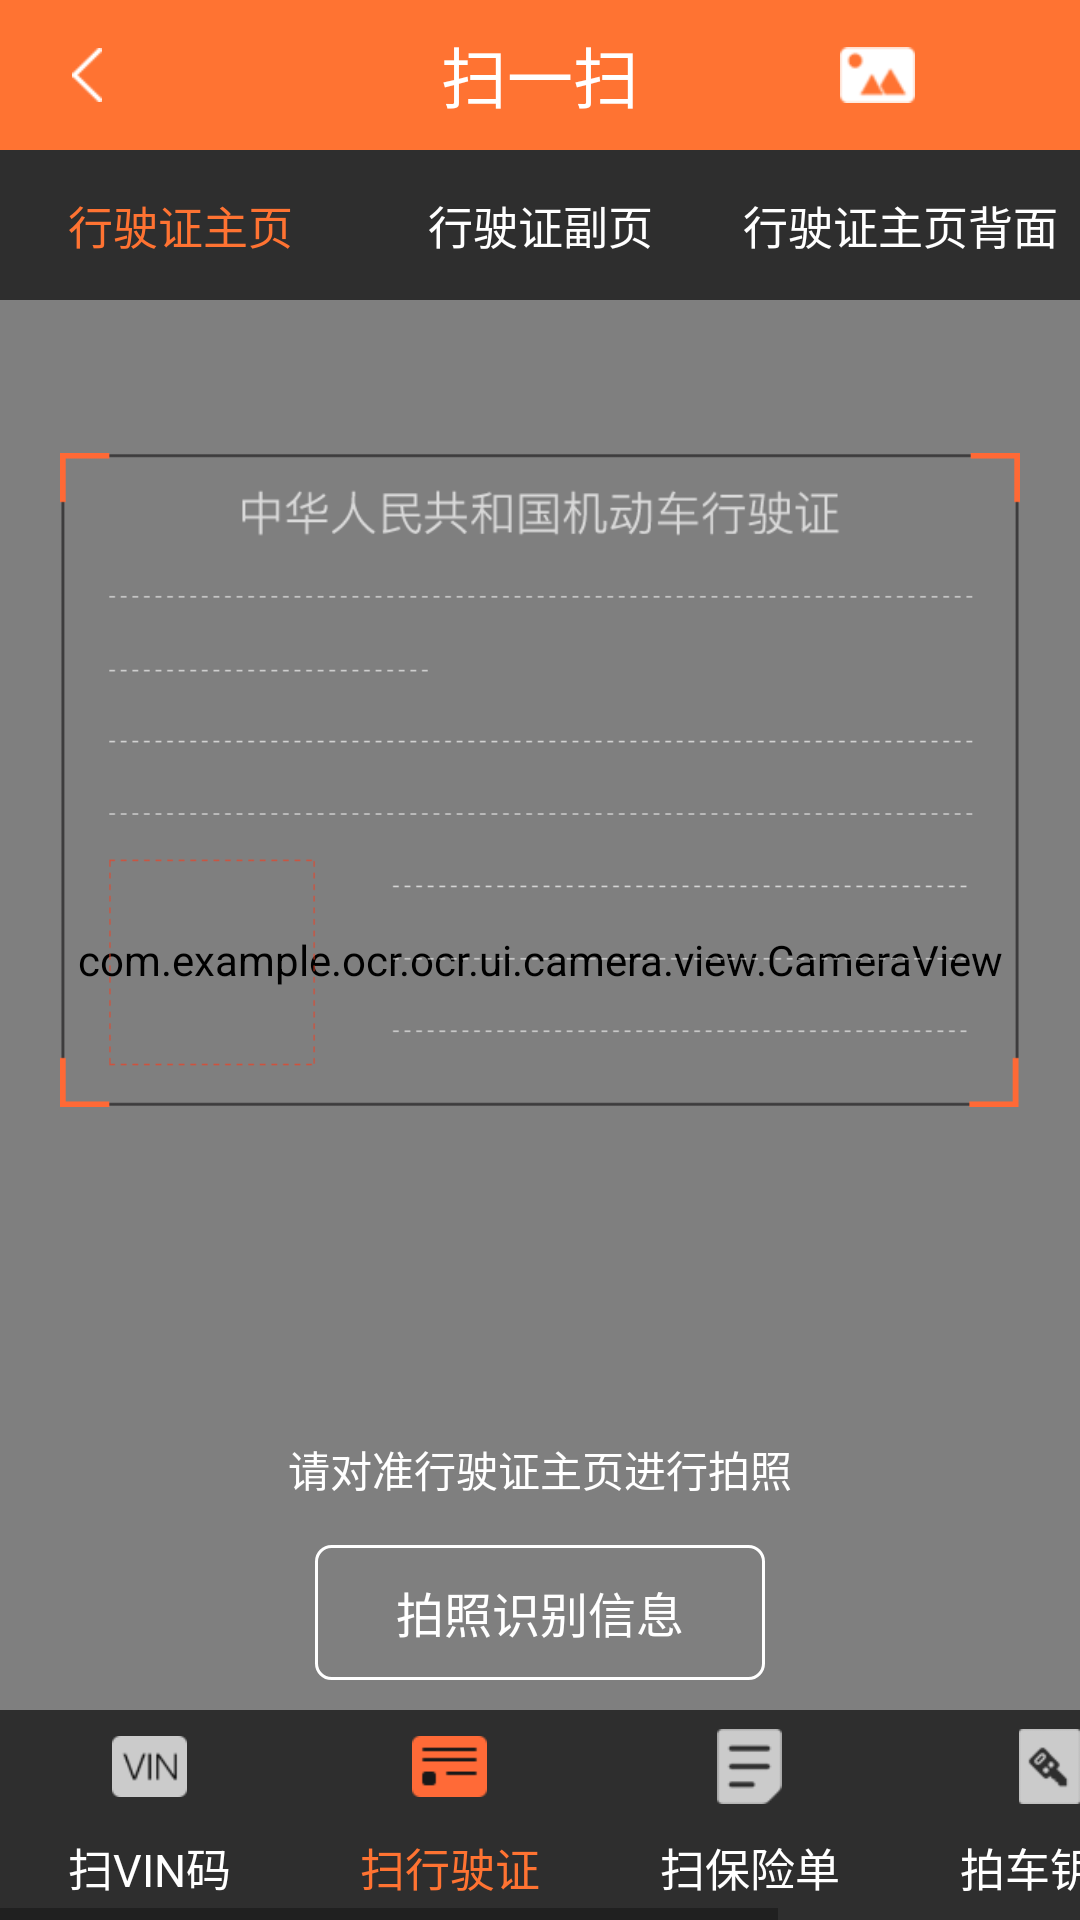

Icons on this 1080w x 1920h Android screen, each with its box as rect(x1, y1, x2, y2):
album: rect(840, 47, 915, 103)
bac: rect(72, 48, 102, 102)
title baoxiandan off: rect(717, 1729, 782, 1804)
title keys off: rect(1019, 1729, 1080, 1804)
title xingshizheng on: rect(412, 1736, 487, 1797)
